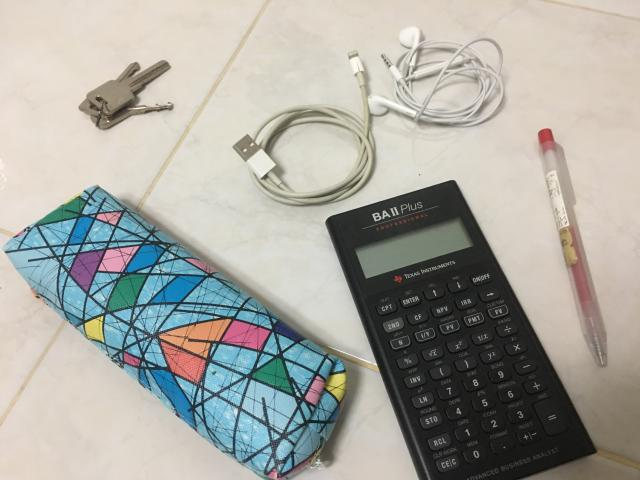Keys: (79, 60, 172, 129)
Pen: (538, 129, 608, 366)
wire: (232, 50, 375, 205), (369, 26, 504, 126)
